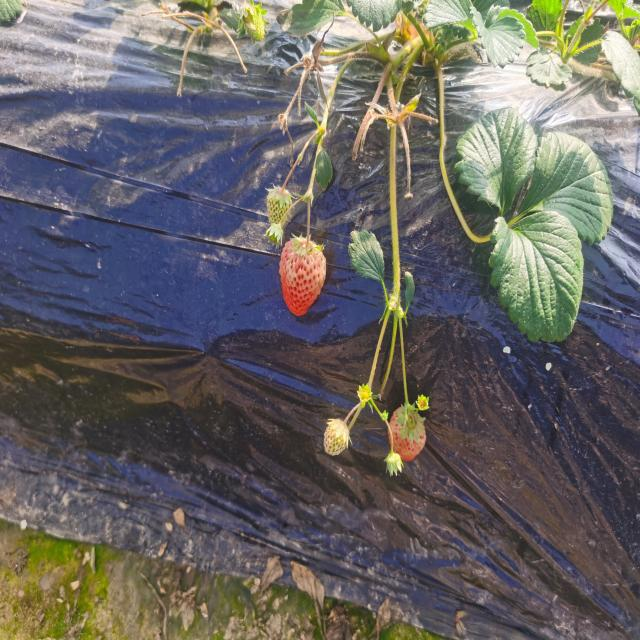stem: (305, 213, 310, 247)
strawberry: (279, 239, 326, 316), (388, 405, 427, 461)
